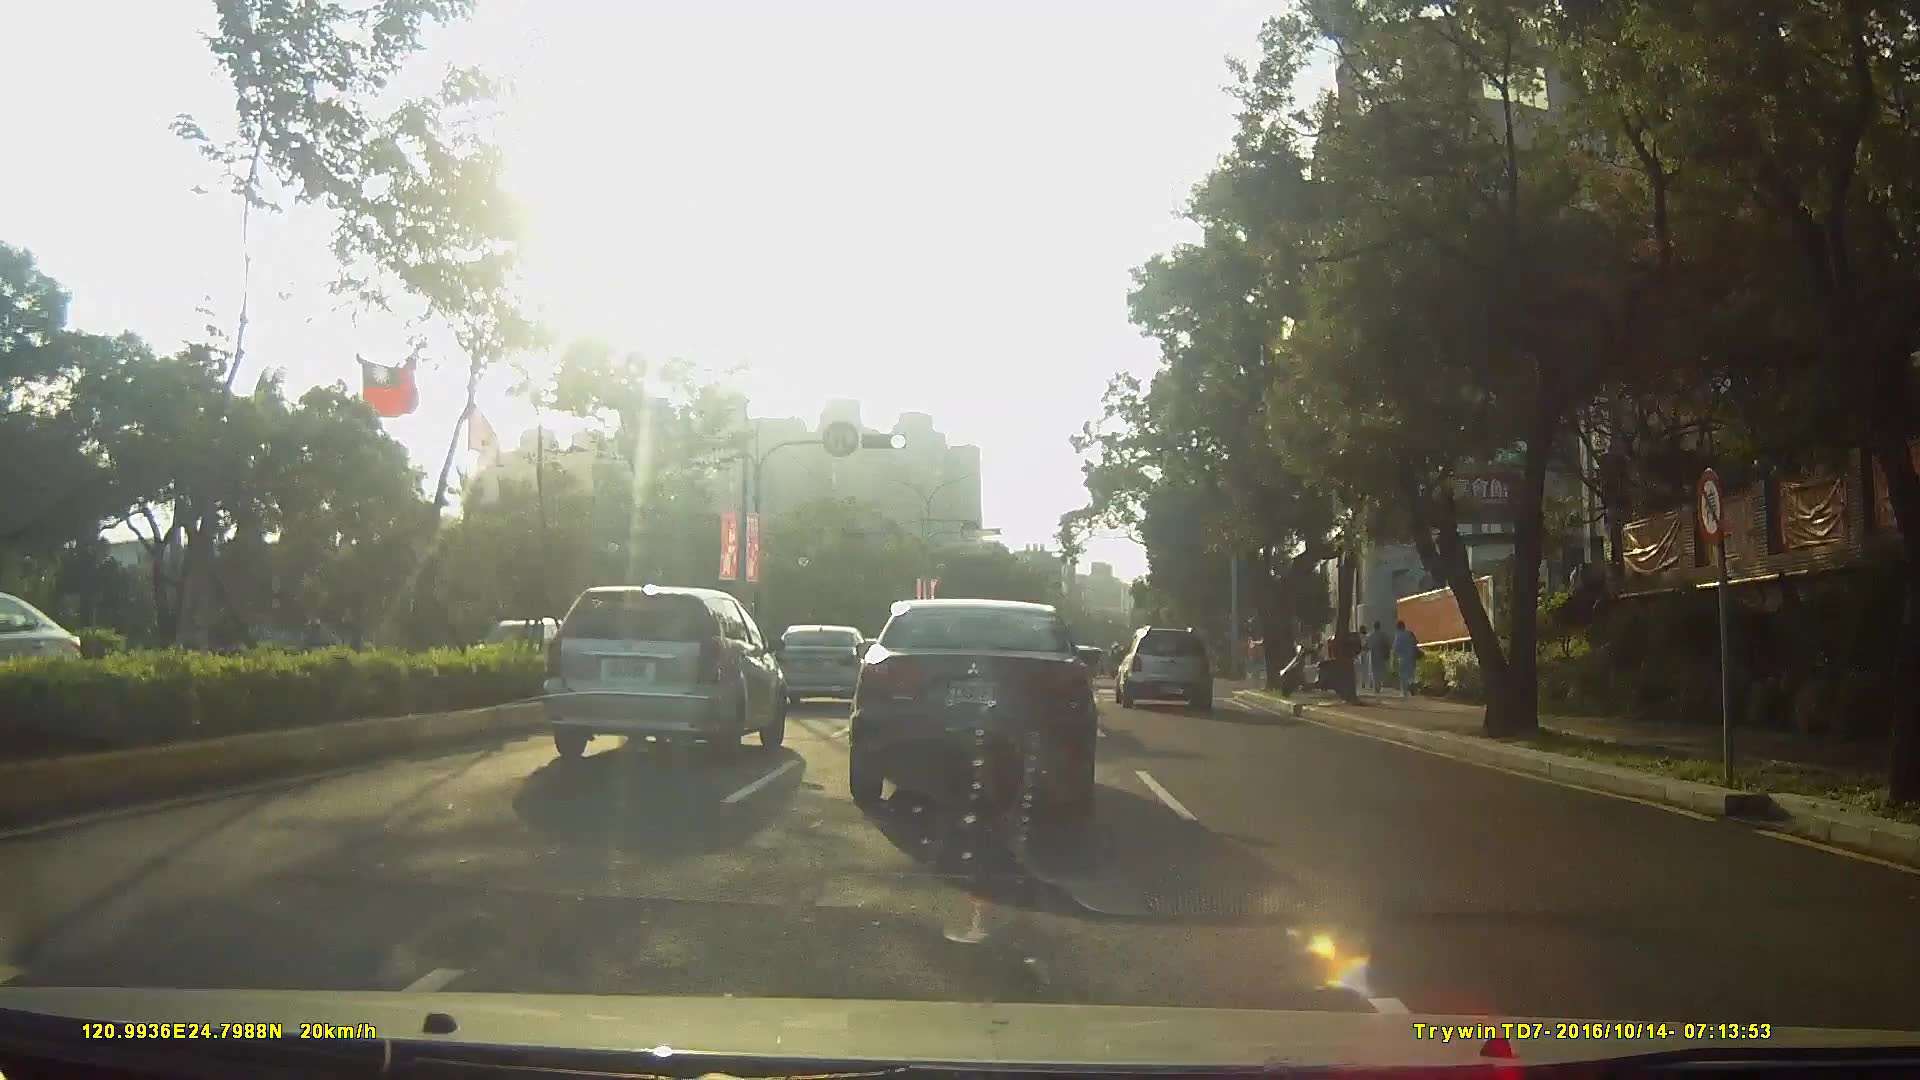pedestrian: (1392, 616, 1424, 700), (1368, 615, 1396, 695)
vehicle: (844, 593, 1094, 812), (537, 582, 787, 761), (1112, 622, 1224, 711), (1, 584, 84, 701), (773, 619, 877, 710)
